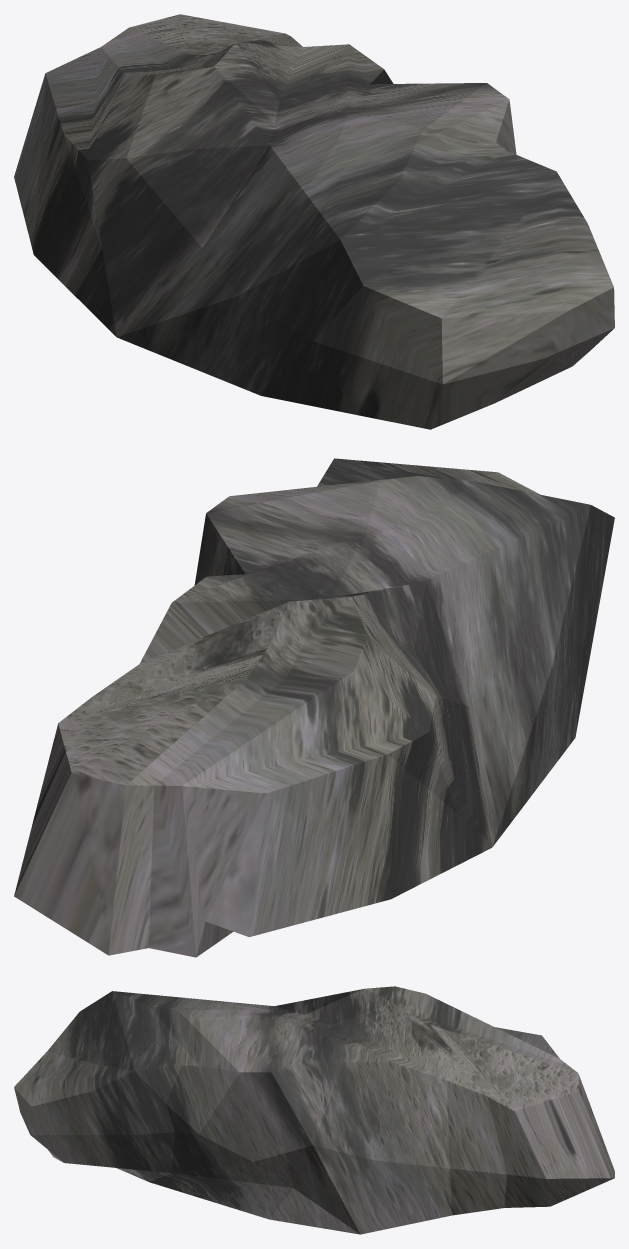
Rendered from asteroid2.obj.
3 renders of one model, top to bottom at view 1: azimuth 30°, elevation 25°; view 2: azimuth 150°, elevation 25°; view 3: azimuth 270°, elevation 25°, orthographic. The views are drawn at different scales.
Parts seen in each view (by area): view 1: Cube.001; view 2: Cube.001; view 3: Cube.001.
Boxes of the visible parts, box(x1,y1,x2,y2) form: Cube.001: box(14, 14, 614, 429); Cube.001: box(14, 458, 614, 957); Cube.001: box(14, 986, 614, 1234).
Size of the model in its own units: 6.38 by 5.24 by 14.23.
1 material, 1 textured.
